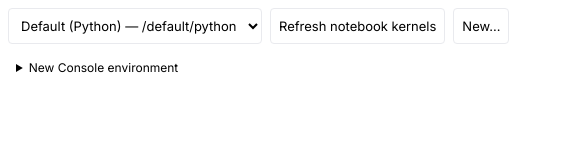
Test: does not silently replace a selected environment removed during refresh
The image size is (564, 160).
Select "Old (Python) — /gone/python" in the dropdown named "Notebook kernel": (135, 26) [8,8,262,44]
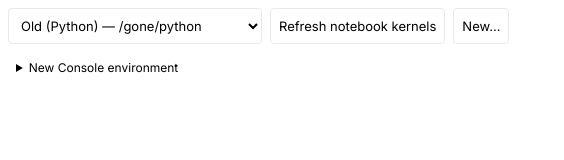
Click the button "Refresh notebook kernels": (358, 26) [270,8,445,44]
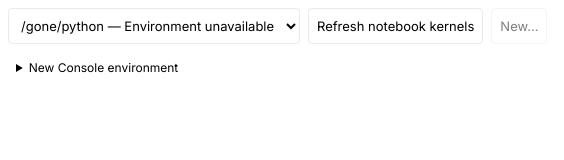
Expected: the button "New…" is disabled, [491,8,547,44]
